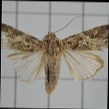Spodoptera litura: (0, 15, 108, 94)
